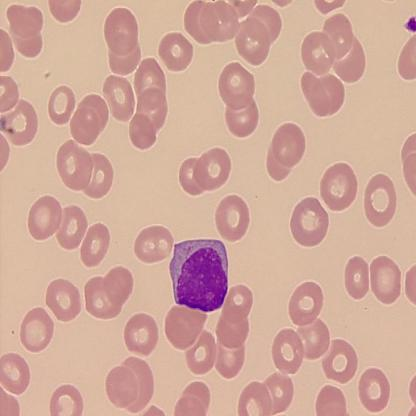Lymphocyte: (170, 238, 230, 312)
